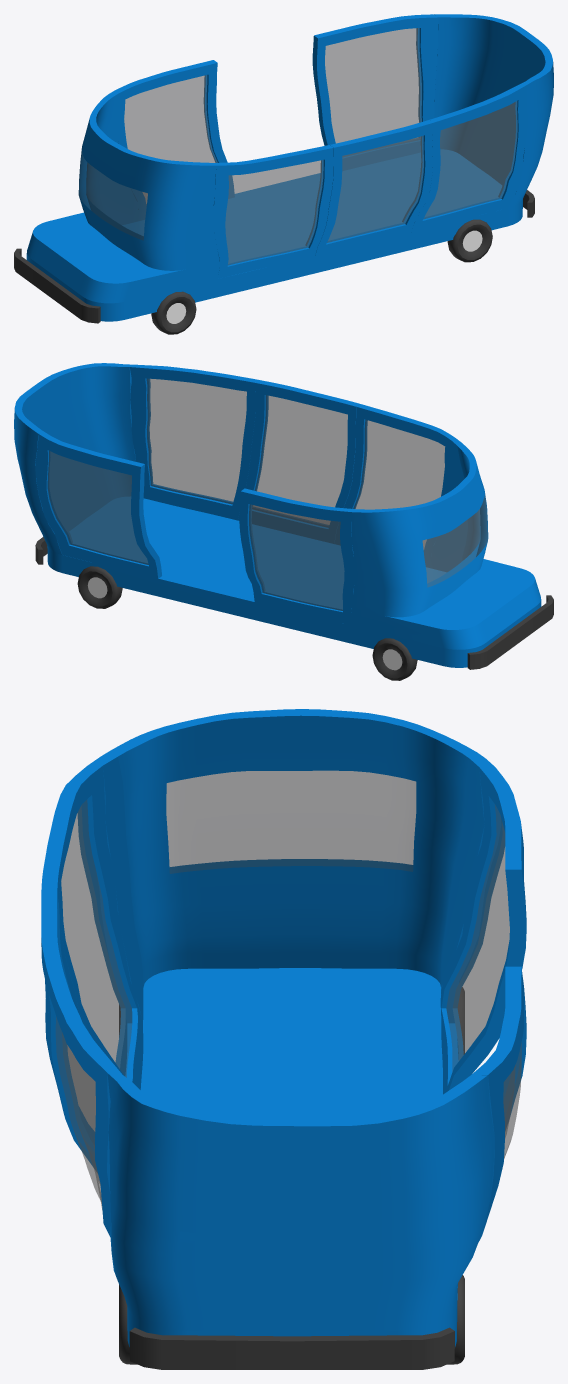
Rendered from Bus.fbx.
The picture shows the model from 3 angles, top to bottom: view 1: azimuth 30°, elevation 25°; view 2: azimuth 150°, elevation 25°; view 3: azimuth 270°, elevation 25°; orthographic projection. The views are drawn at different scales.
Visible parts, largest first — view 1: swat_bus_big_blend_shape1; view 2: swat_bus_big_blend_shape1; view 3: swat_bus_big_blend_shape1.
Part boxes in pixels (<box>): swat_bus_big_blend_shape1: <box>14,14,553,334</box>; swat_bus_big_blend_shape1: <box>14,363,553,680</box>; swat_bus_big_blend_shape1: <box>41,709,526,1369</box>.
Bounding box in the file's own units: 0.0977 × 0.0323 × 0.0423.
